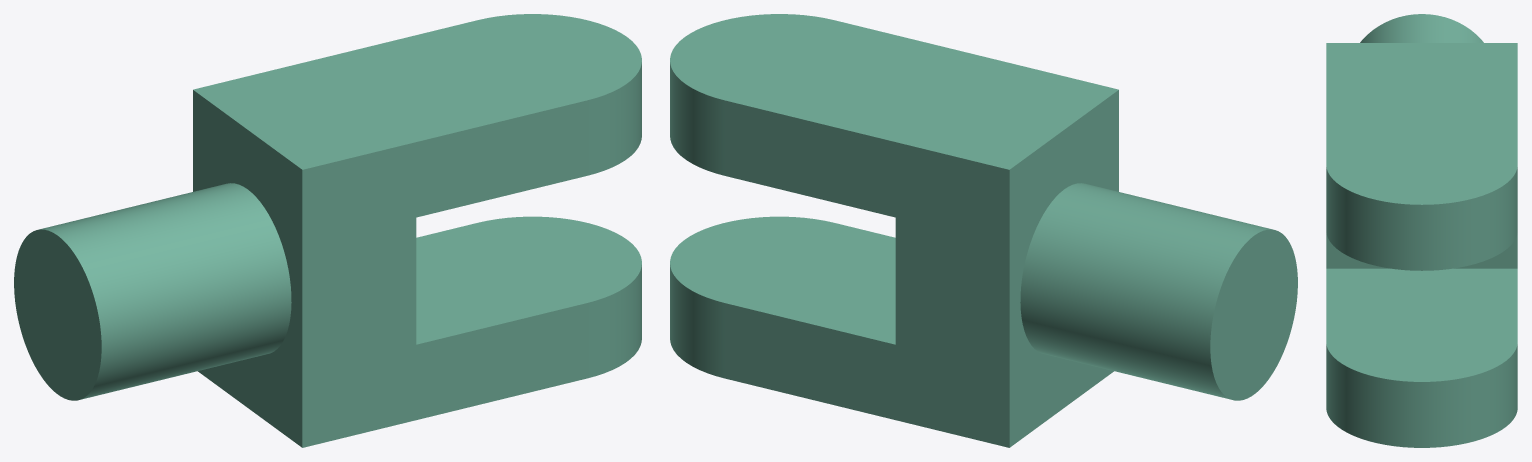
File: step_04.glb
The picture shows the model from 3 angles, left to right: view 1: azimuth 30°, elevation 25°; view 2: azimuth 150°, elevation 25°; view 3: azimuth 270°, elevation 25°; orthographic projection. The views are drawn at different scales.
Visible parts, largest first — view 1: part__fork end; view 2: part__fork end; view 3: part__fork end.
Boxes of the visible parts, left/top/right/bottom form: part__fork end: left=14, top=14, right=641, bottom=447; part__fork end: left=670, top=14, right=1297, bottom=447; part__fork end: left=1326, top=14, right=1517, bottom=447.
Size of the model in its own units: 150 by 70 by 50.
